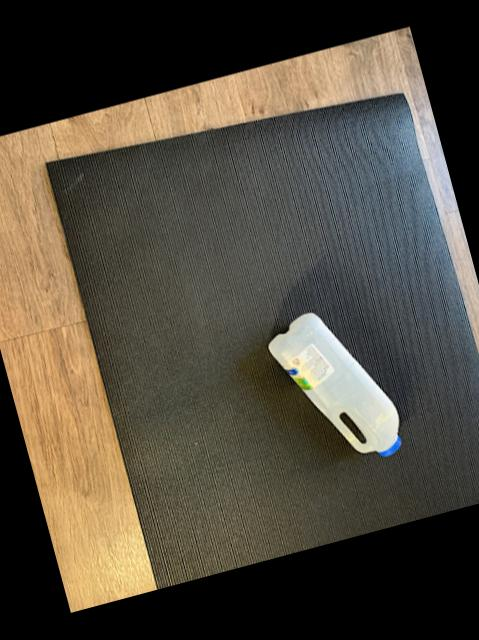plastic: (269, 312, 401, 455)
